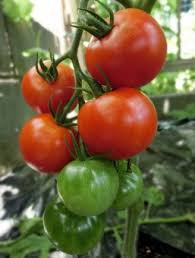stems: (56, 89, 76, 123), (46, 49, 70, 76), (85, 12, 110, 36), (80, 73, 105, 96)
tomato: (78, 87, 158, 161), (43, 195, 105, 255), (18, 113, 80, 173), (57, 158, 120, 216), (21, 60, 81, 113), (110, 160, 144, 210)
